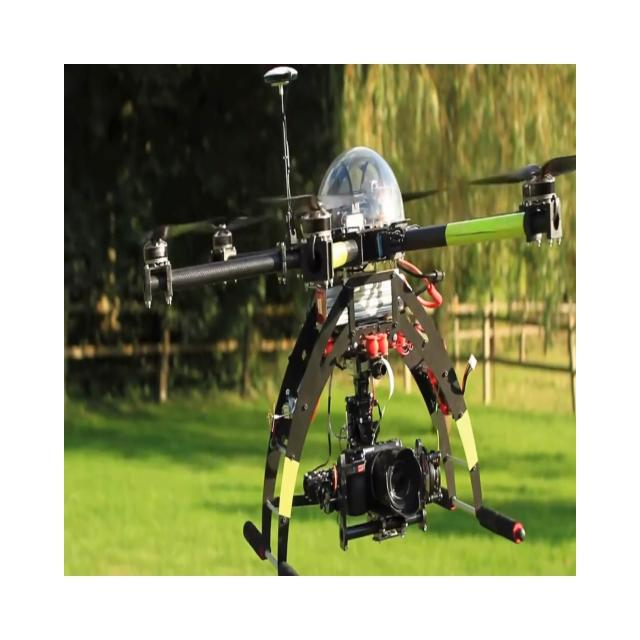drone: (142, 64, 576, 574)
